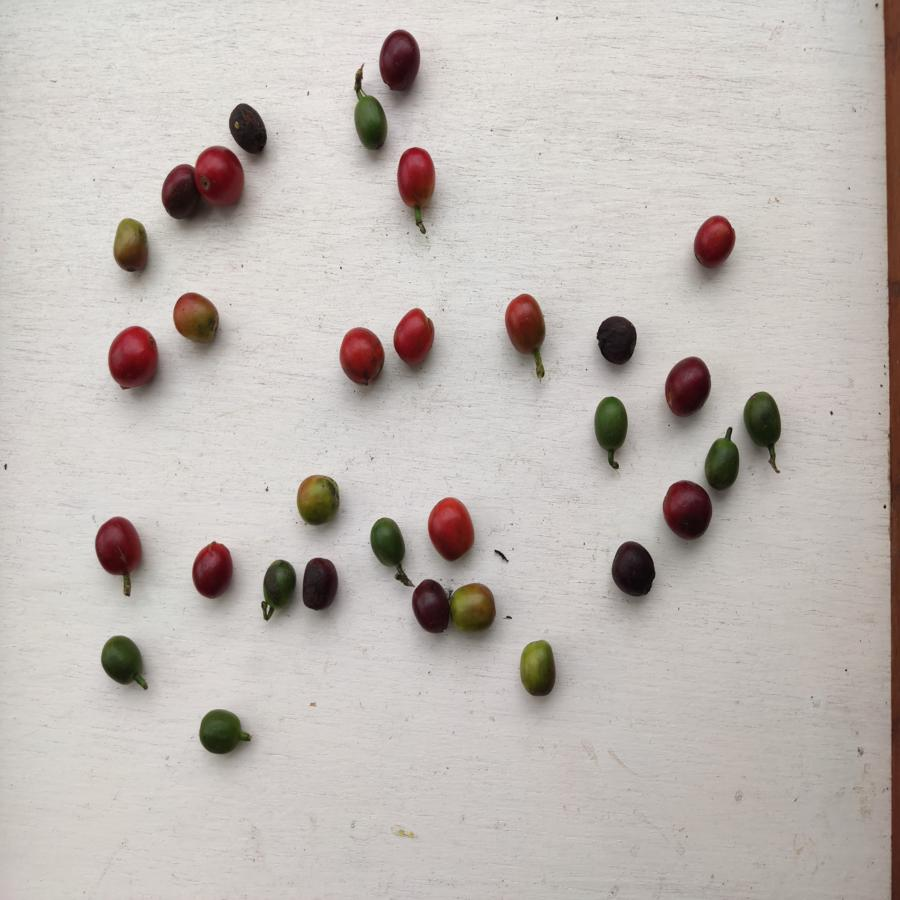Inmaduro: (740, 384, 785, 455), (96, 634, 147, 688), (199, 702, 248, 758), (593, 392, 634, 456), (705, 430, 745, 492), (352, 93, 391, 155), (369, 516, 409, 570), (262, 560, 297, 612)
Maduro: (103, 325, 163, 393), (425, 495, 477, 563), (195, 146, 247, 212), (337, 327, 385, 386), (504, 294, 549, 354), (391, 308, 435, 368), (395, 143, 435, 209), (691, 213, 736, 269)
Pinton: (172, 290, 223, 353), (292, 472, 343, 531), (450, 580, 500, 636), (110, 218, 155, 275), (518, 639, 559, 698)
Sobremaduro: (662, 481, 713, 545), (665, 355, 713, 419), (609, 541, 659, 601), (189, 540, 237, 602), (94, 518, 145, 576), (378, 25, 420, 94), (298, 553, 340, 615), (230, 99, 271, 157), (411, 579, 451, 638), (595, 312, 638, 366), (161, 165, 201, 220)
